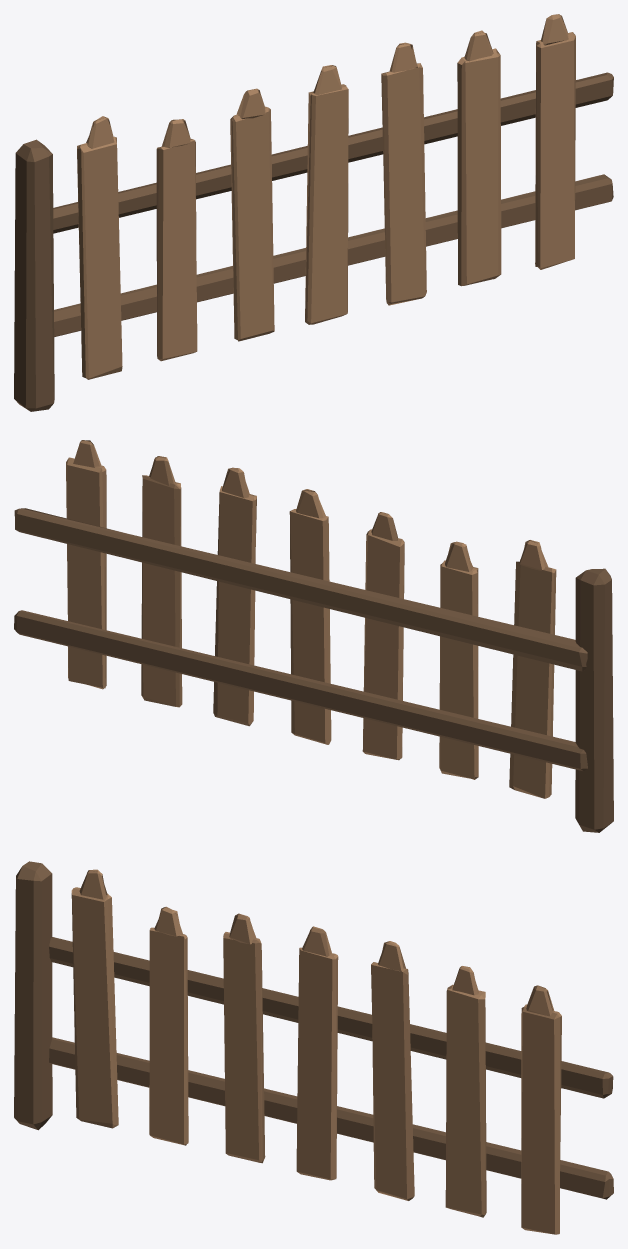
Rendered from PKX_Fence_2m.fbx.
3 views of the same model, one above another, from view 1: azimuth 30°, elevation 25°; view 2: azimuth 150°, elevation 25°; view 3: azimuth 330°, elevation 25° (orthographic).
Visible parts, largest first — view 1: PKX_Fence_2m; view 2: PKX_Fence_2m; view 3: PKX_Fence_2m.
Boxes of the visible parts, box(x1,y1,x2,y2) form: PKX_Fence_2m: box(14, 14, 613, 411); PKX_Fence_2m: box(14, 440, 613, 832); PKX_Fence_2m: box(14, 861, 613, 1234).
Size of the model in its own units: 205 by 91.16 by 11.99.
